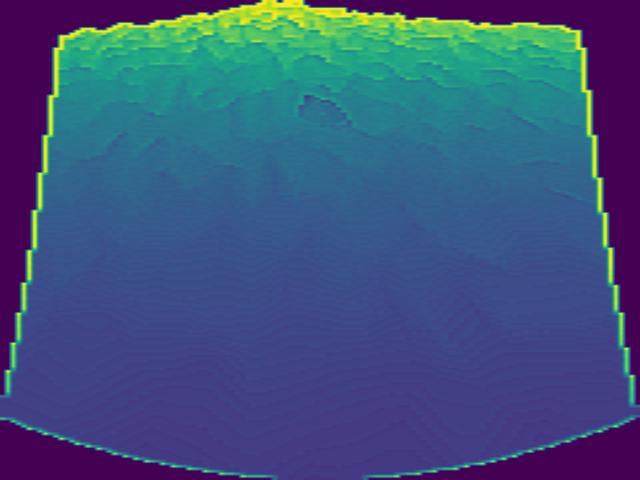car_0198: (297, 92, 353, 128)
